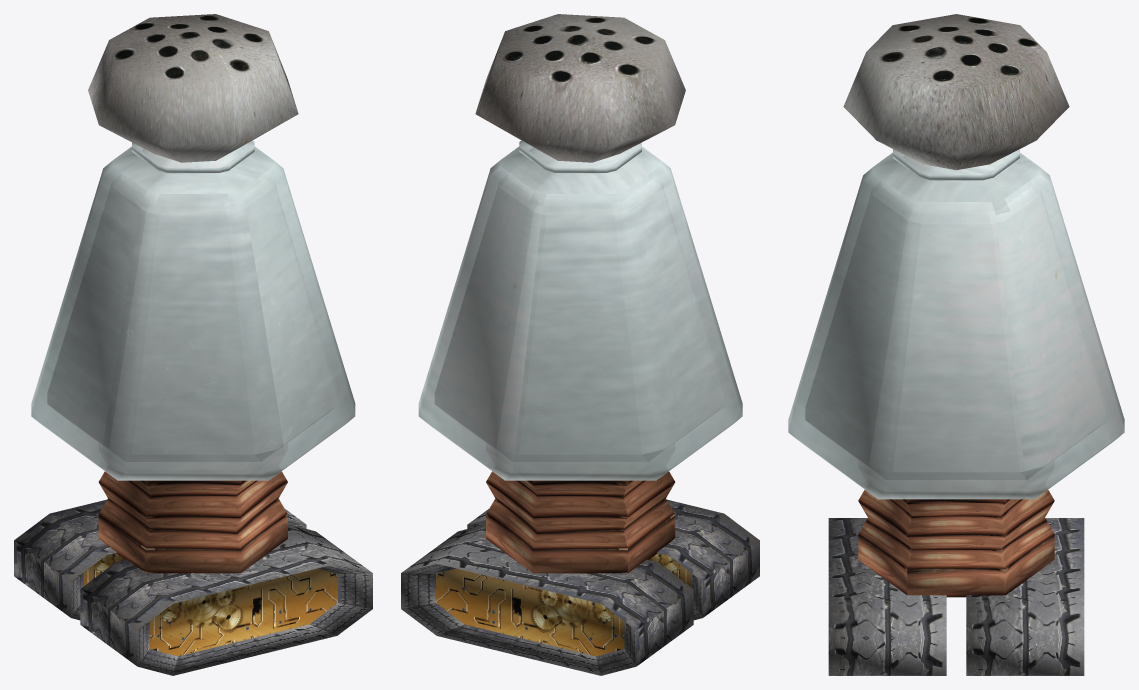
Rendered from saltshaker.fbx.
3 renders of one model, left to right at view 1: azimuth 30°, elevation 25°; view 2: azimuth 150°, elevation 25°; view 3: azimuth 270°, elevation 25°, orthographic. The views are drawn at different scales.
Parts seen in each view (by area): view 1: saleiro, saal, rodas, mola; view 2: saleiro, saal, rodas, mola; view 3: saleiro, saal, rodas, mola.
Part boxes in pixels (<box>): saleiro: <box>31,14,355,480</box>; saal: <box>47,151,338,461</box>; rodas: <box>14,499,372,675</box>; mola: <box>98,471,287,573</box>; saleiro: <box>418,14,742,480</box>; saal: <box>435,151,726,461</box>; rodas: <box>401,499,759,675</box>; mola: <box>486,471,675,573</box>; saleiro: <box>788,14,1124,499</box>; saal: <box>805,159,1107,479</box>; rodas: <box>828,518,1084,675</box>; mola: <box>858,490,1054,597</box>.
Bounding box in the file's own units: 3.12 × 6.69 × 3.42.
